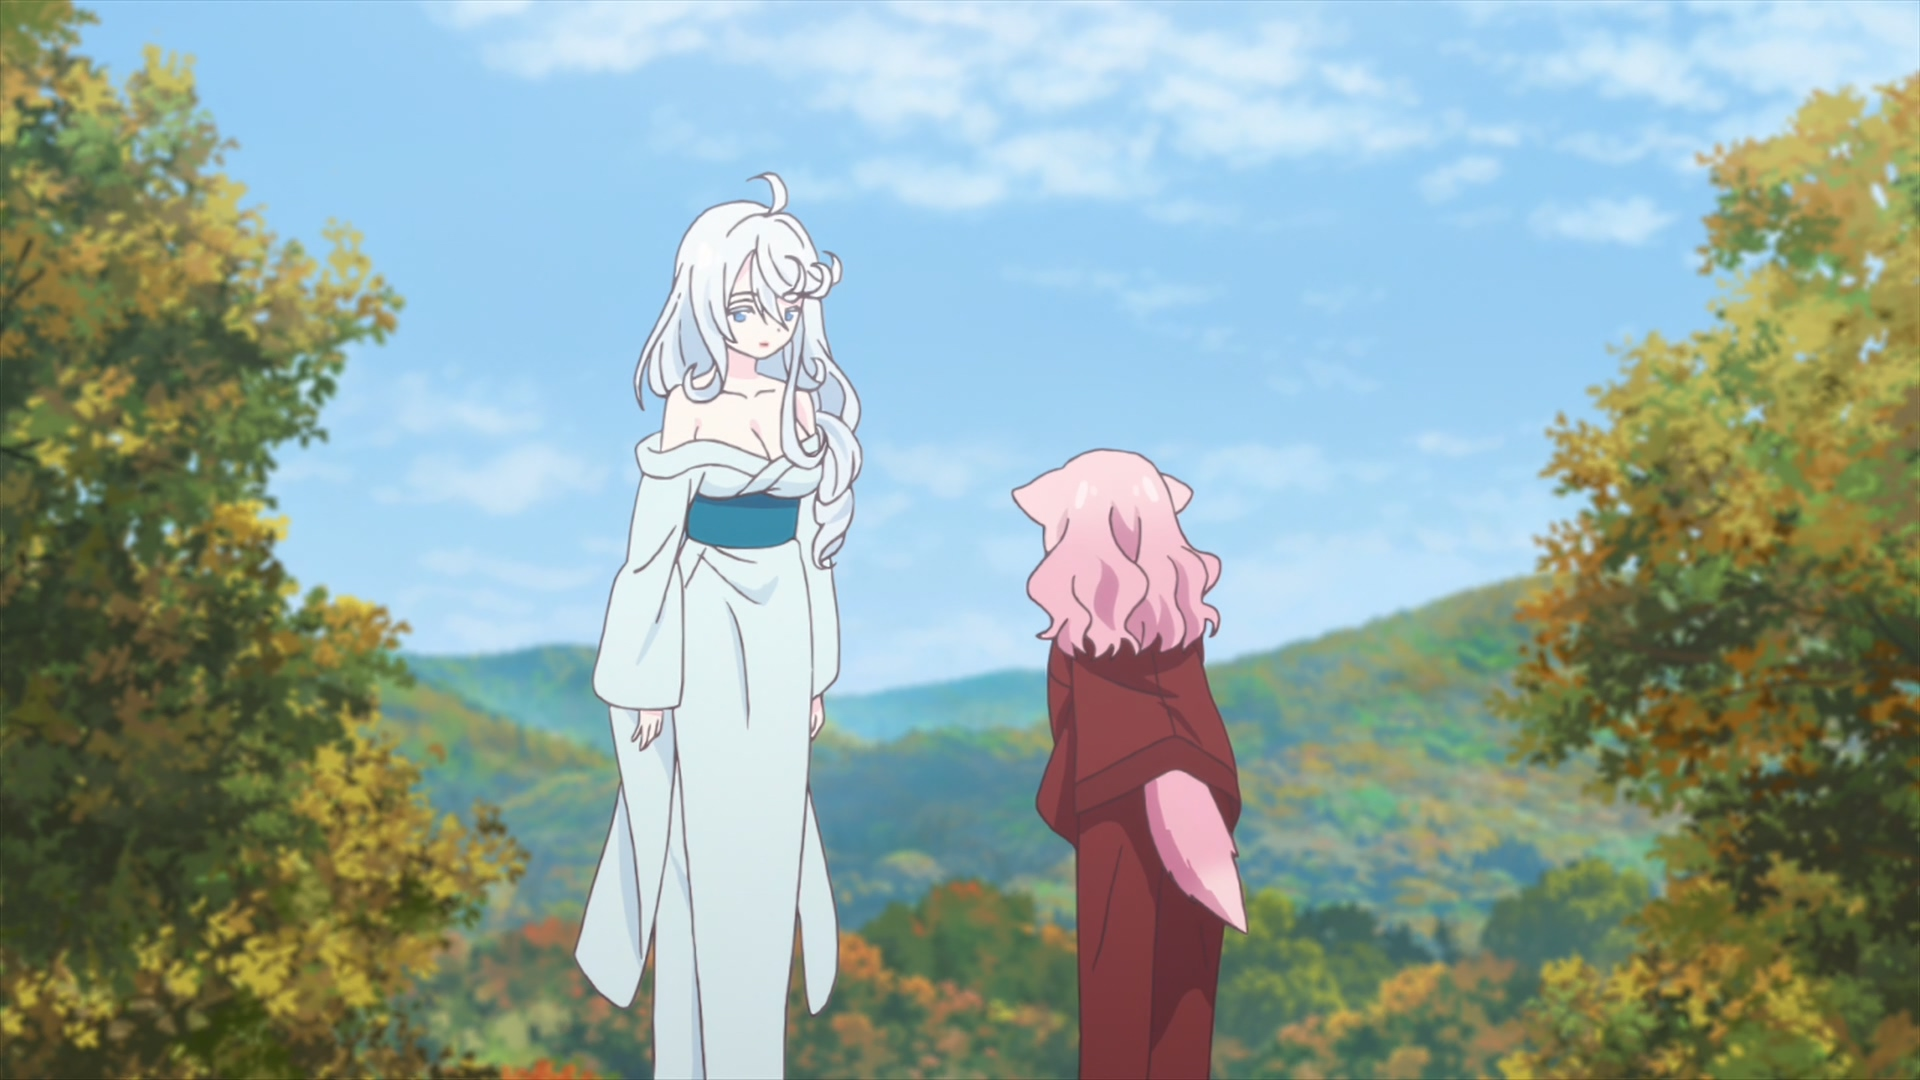其他: (574, 171, 861, 1080)
莲: (1011, 448, 1241, 1080)
